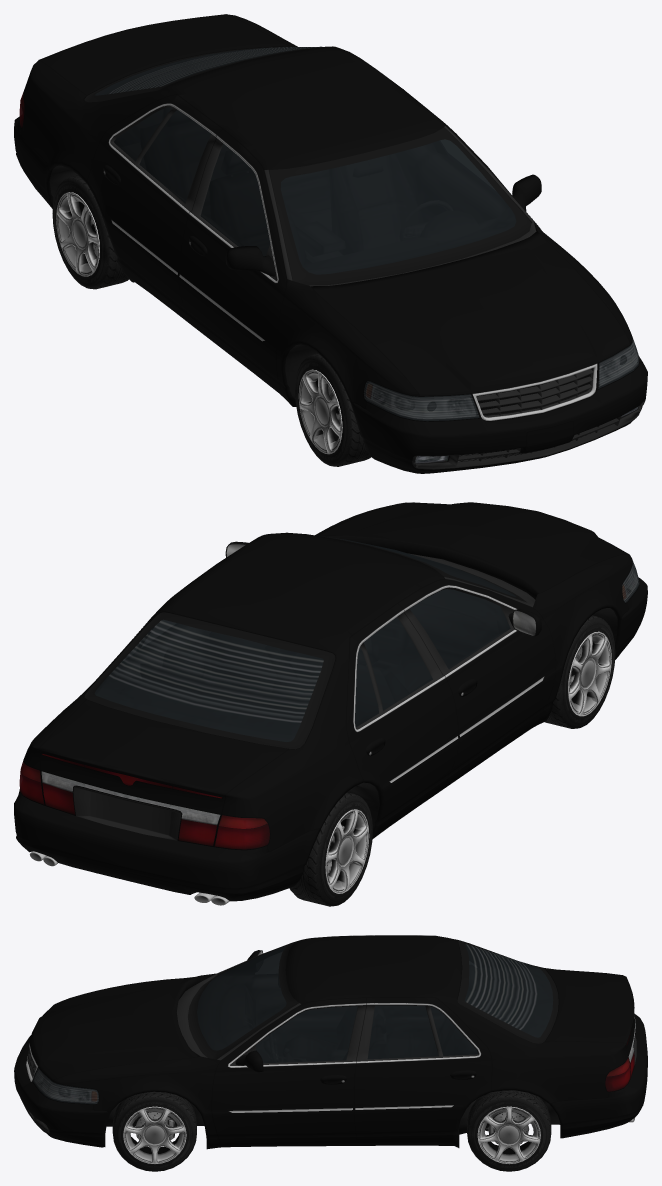
Rendered from veicolo_epoca_berlina_lusso.glb.
The picture shows the model from 3 angles, top to bottom: view 1: azimuth 30°, elevation 25°; view 2: azimuth 150°, elevation 25°; view 3: azimuth 270°, elevation 25°; orthographic projection. The views are drawn at different scales.
Visible parts, largest first — view 1: sb_modello; view 2: sb_modello; view 3: sb_modello.
Boxes of the visible parts, x1,y1,x2,y2 form: sb_modello: [14, 14, 647, 473]; sb_modello: [14, 502, 647, 906]; sb_modello: [14, 935, 647, 1171].
Size of the model in its own units: 2.09 by 1.42 by 5.02.
Materials: 7 (6 with a texture image).
